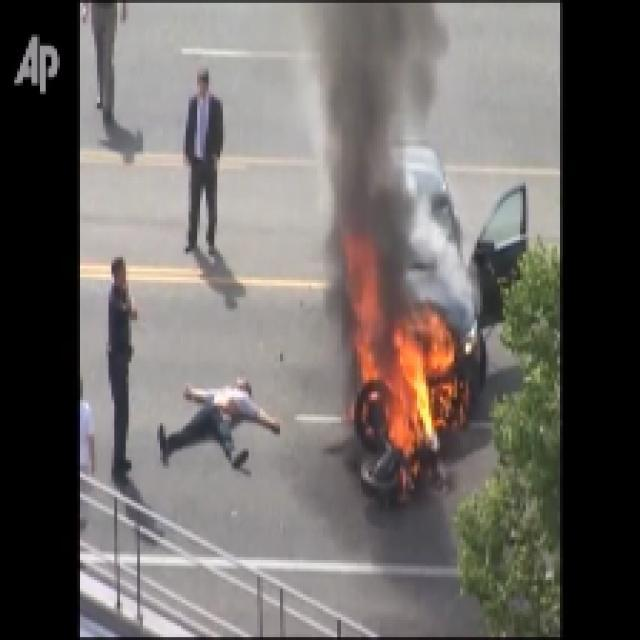Fire: (344, 301, 458, 478)
Smoke: (309, 2, 452, 230)
